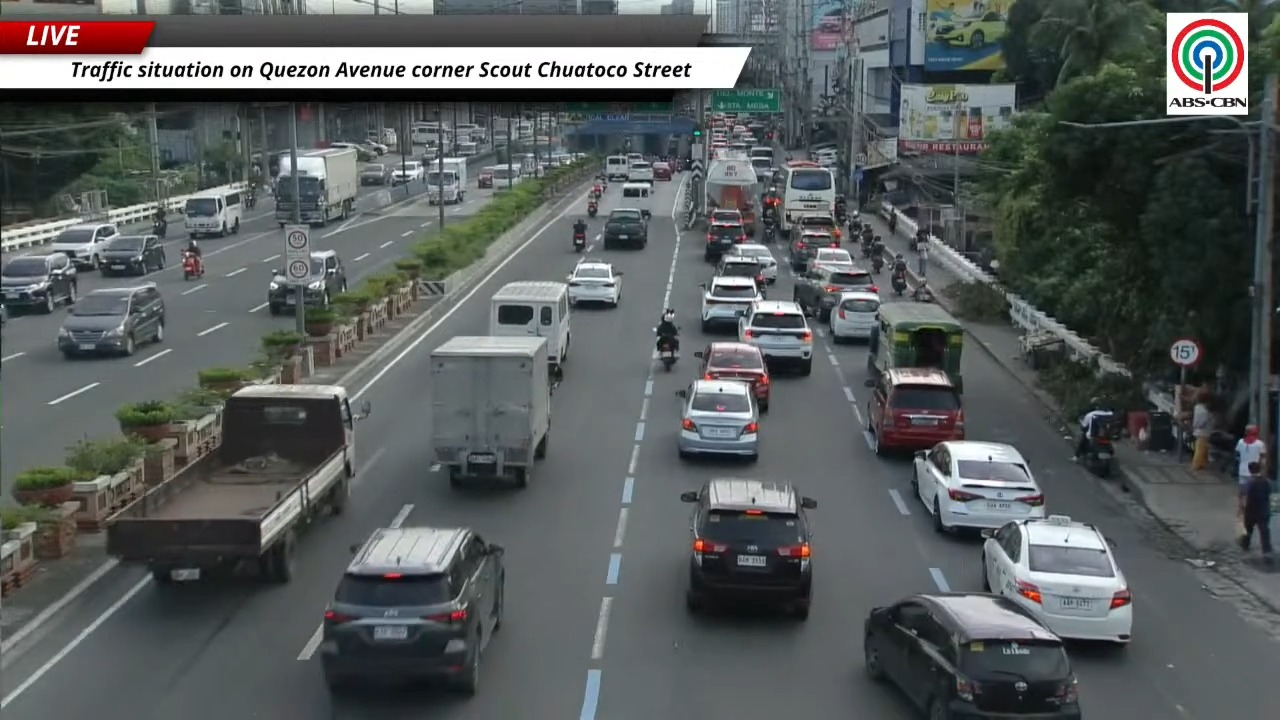bus: (778, 161, 835, 236)
car: (319, 526, 504, 695), (864, 594, 1081, 719), (680, 478, 816, 620), (982, 515, 1132, 643), (912, 441, 1044, 531), (865, 368, 964, 454), (57, 283, 165, 358), (677, 379, 759, 461), (738, 300, 812, 375), (695, 342, 770, 412), (793, 263, 877, 321), (0, 253, 77, 313), (700, 276, 762, 332), (48, 223, 118, 268), (99, 234, 165, 276), (933, 11, 1006, 48), (829, 290, 880, 342), (303, 249, 347, 307), (567, 261, 622, 307), (715, 253, 765, 295), (788, 230, 838, 271), (602, 208, 649, 250), (731, 243, 777, 283), (705, 221, 747, 260), (792, 212, 842, 240), (329, 142, 377, 161), (811, 247, 854, 265), (392, 161, 424, 184), (360, 163, 392, 184), (362, 131, 389, 154), (626, 160, 653, 182), (708, 209, 743, 225), (356, 141, 387, 158), (477, 167, 494, 189), (652, 162, 672, 179)
motorcycle: (1081, 420, 1117, 478), (657, 336, 678, 371), (182, 251, 203, 280), (891, 272, 907, 296), (912, 288, 934, 303), (860, 235, 873, 257), (860, 224, 873, 245), (834, 203, 847, 224), (152, 220, 167, 238), (763, 223, 776, 243), (871, 254, 884, 274), (573, 230, 584, 252), (887, 211, 897, 234), (587, 201, 597, 217), (245, 193, 255, 209), (590, 186, 602, 199), (908, 236, 917, 251)
truck: (105, 384, 369, 583), (431, 336, 552, 488), (275, 148, 359, 226), (705, 155, 760, 236), (426, 157, 467, 204)
